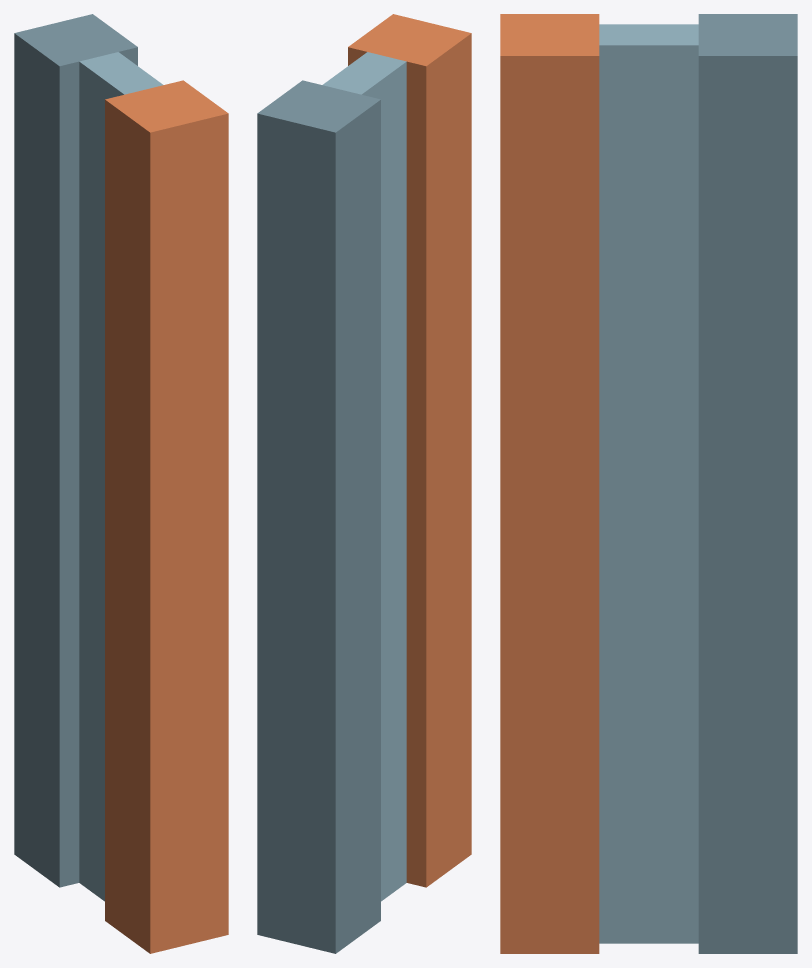
Rendered from wallArch.fbx.
The picture shows the model from 3 angles, left to right: view 1: azimuth 30°, elevation 25°; view 2: azimuth 150°, elevation 25°; view 3: azimuth 270°, elevation 25°; orthographic projection. The views are drawn at different scales.
Visible parts, largest first — view 1: wallArch; view 2: wallArch; view 3: wallArch.
Boxes of the visible parts, x1,y1,x2,y2 form: wallArch: (14, 14, 228, 953); wallArch: (257, 14, 471, 953); wallArch: (500, 14, 797, 953).
Bounding box in the file's own units: 1 × 10 × 3.
